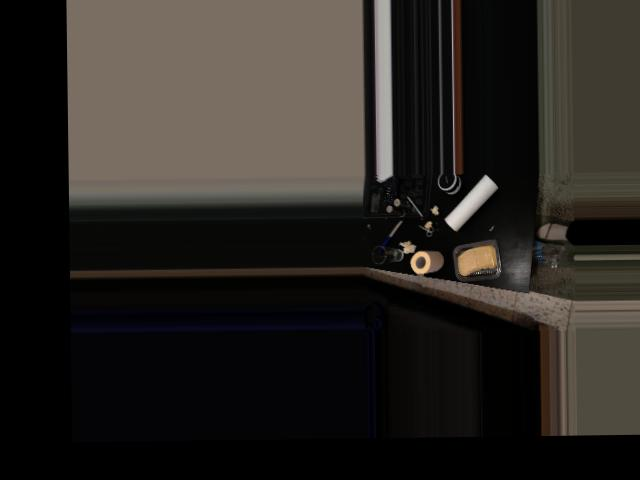cheese: (451, 237, 506, 283)
